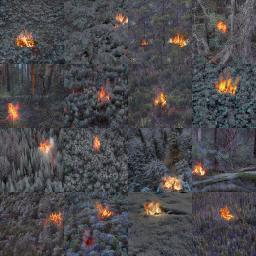Small fire: (214, 76, 241, 99), (160, 175, 187, 192), (13, 30, 37, 49), (95, 203, 118, 220), (167, 33, 191, 48), (4, 102, 21, 122), (93, 87, 114, 103), (151, 91, 169, 108), (142, 202, 163, 216), (217, 206, 236, 221), (46, 210, 63, 225), (91, 135, 105, 152), (190, 163, 207, 177), (213, 19, 231, 32), (113, 12, 129, 26), (138, 36, 152, 50), (38, 141, 52, 153)
